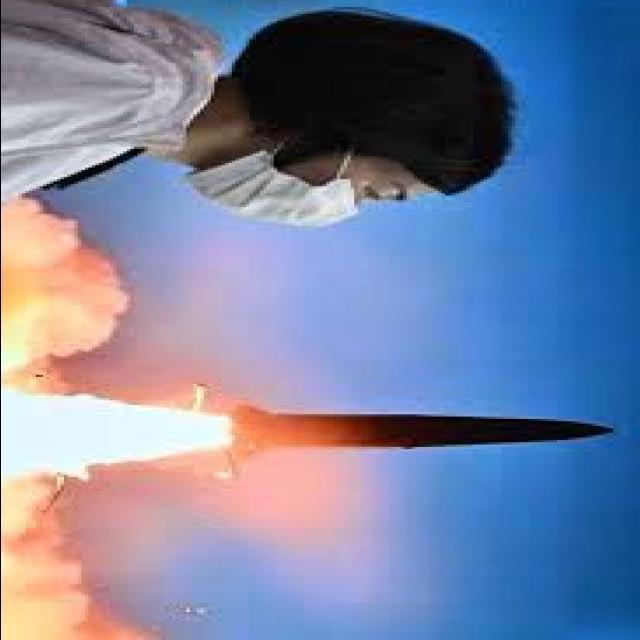Missile: (215, 402, 631, 456)
